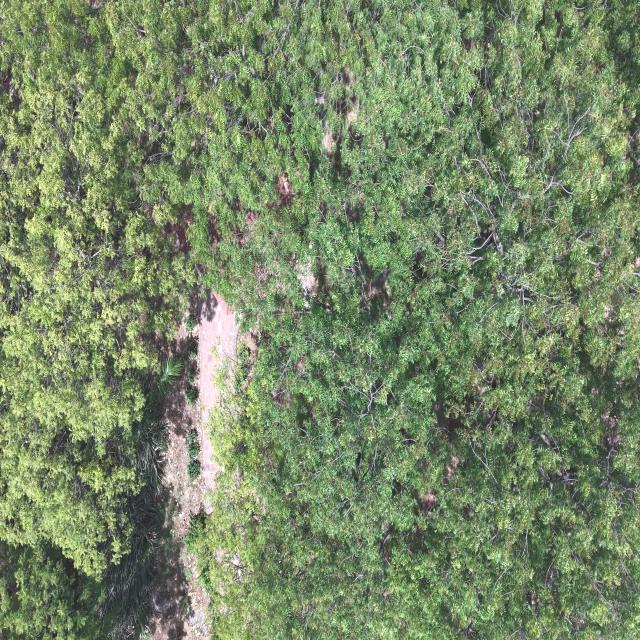DRY_AREA: (150, 292, 236, 639), (150, 314, 209, 639), (198, 293, 236, 490)
VEGETATION_TREE: (0, 0, 639, 639), (184, 1, 639, 639), (0, 2, 193, 636), (0, 2, 192, 576), (98, 390, 167, 639), (0, 541, 102, 639), (184, 514, 212, 593), (153, 357, 181, 395), (184, 514, 207, 556), (187, 429, 201, 483), (187, 458, 201, 484), (187, 428, 198, 458), (178, 592, 190, 617), (184, 386, 198, 406), (185, 314, 198, 332), (186, 340, 197, 359), (186, 367, 194, 383)
